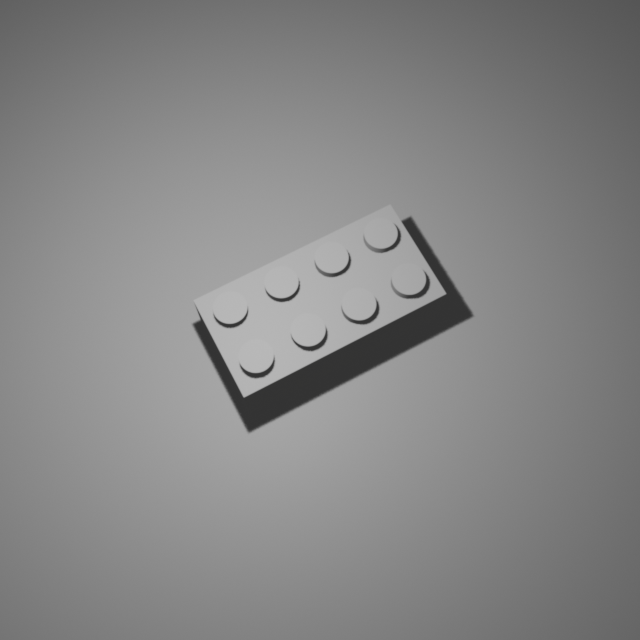lego_2x4: (192, 199, 448, 414)
